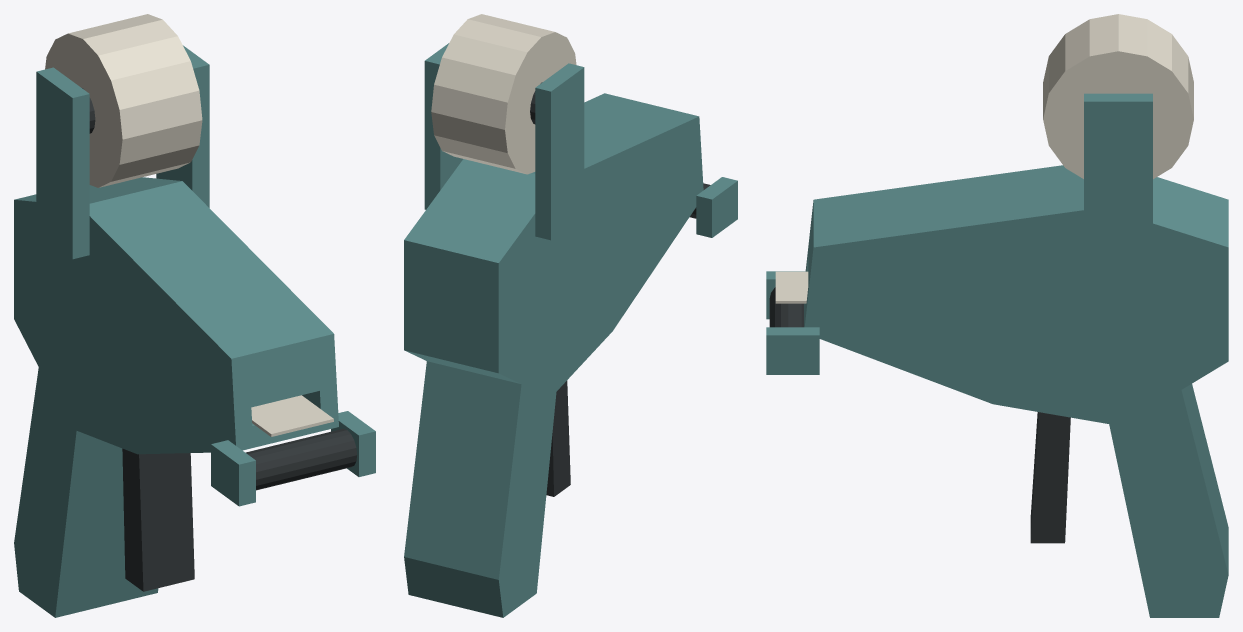
3 renders of one model, left to right at view 1: azimuth 30°, elevation 25°; view 2: azimuth 150°, elevation 25°; view 3: azimuth 270°, elevation 25°, orthographic. The views are drawn at different scales.
Visible parts, largest first — view 1: IntegralGripSlottedHeadAndTwoAxleForkPairs, LoadedFacetedLabelRollAroundAxle, FixedSeparateFingerTrigger, FrontNoseApplicationRoller, ShortBlankLabelTabSeatedInOutputSlot; view 2: IntegralGripSlottedHeadAndTwoAxleForkPairs, LoadedFacetedLabelRollAroundAxle, FixedSeparateFingerTrigger; view 3: IntegralGripSlottedHeadAndTwoAxleForkPairs, LoadedFacetedLabelRollAroundAxle, FixedSeparateFingerTrigger, ShortBlankLabelTabSeatedInOutputSlot, FrontNoseApplicationRoller.
Boxes of the visible parts, box(x1,y1,x2,y2) form: IntegralGripSlottedHeadAndTwoAxleForkPairs: box(14, 45, 375, 617); LoadedFacetedLabelRollAroundAxle: box(45, 14, 202, 187); FixedSeparateFingerTrigger: box(122, 448, 194, 591); FrontNoseApplicationRoller: box(245, 428, 357, 490); ShortBlankLabelTabSeatedInOutputSlot: box(251, 395, 333, 436); IntegralGripSlottedHeadAndTwoAxleForkPairs: box(404, 43, 737, 617); LoadedFacetedLabelRollAroundAxle: box(431, 14, 576, 174); FixedSeparateFingerTrigger: box(546, 380, 570, 496); IntegralGripSlottedHeadAndTwoAxleForkPairs: box(766, 93, 1228, 617); LoadedFacetedLabelRollAroundAxle: box(1043, 14, 1193, 178); FixedSeparateFingerTrigger: box(1030, 412, 1070, 543); ShortBlankLabelTabSeatedInOutputSlot: box(775, 271, 808, 303); FrontNoseApplicationRoller: box(769, 287, 803, 327).
Bounding box in the file's own units: 0.048 × 0.197 × 0.147.
